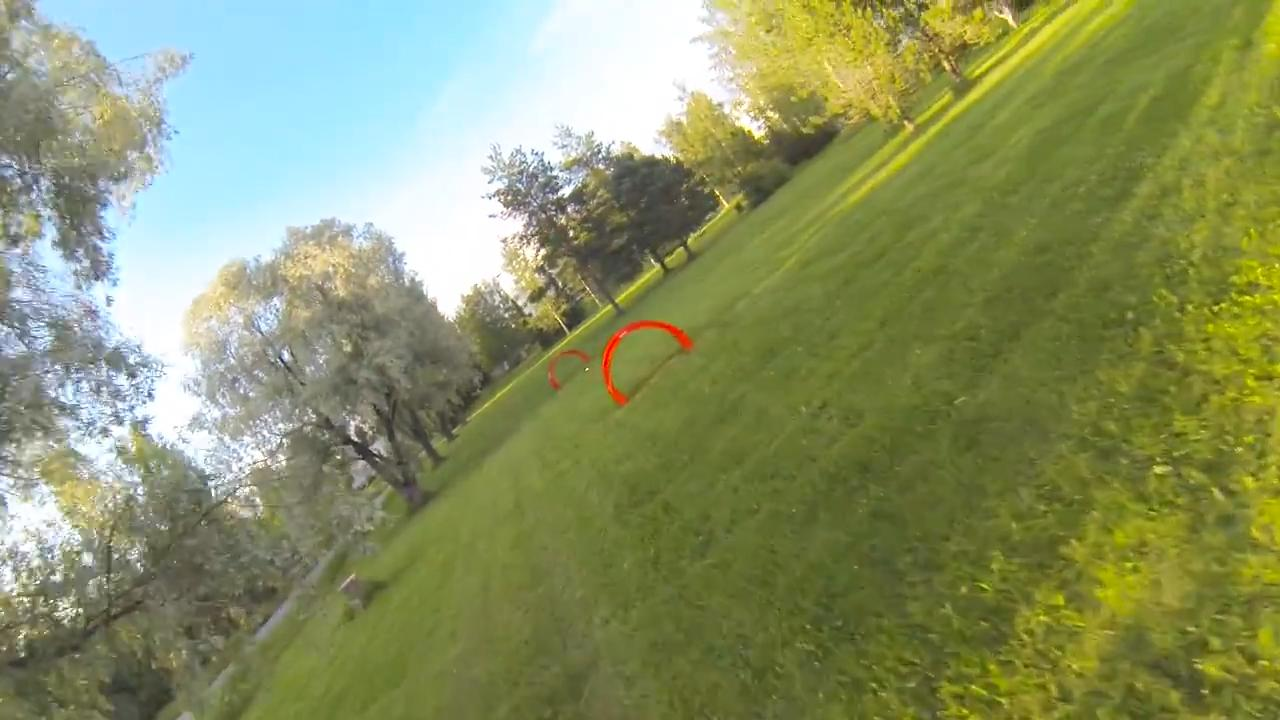gate: (603, 318, 692, 412)
